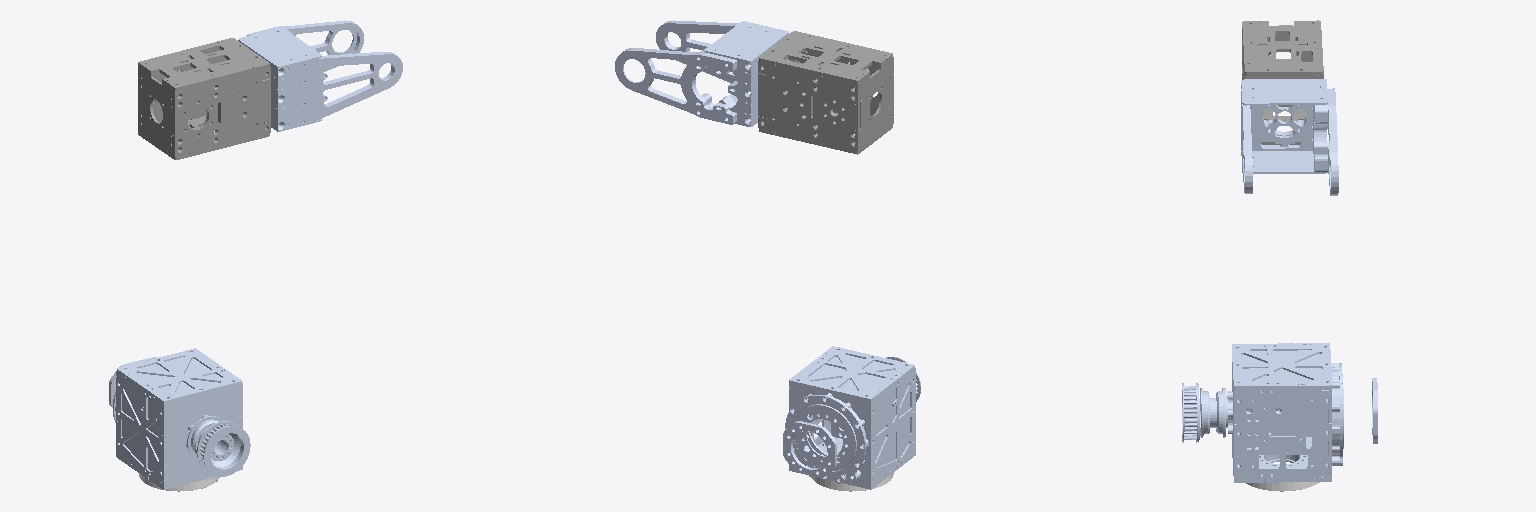
robot.urdf — combine_urdf:
<?xml version="1.0" encoding="utf-8"?>
<!-- This URDF was automatically created by SolidWorks to URDF Exporter! Originally created by Stephen Brawner (brawner@gmail.com) 
     Commit Version: 1.6.0-4-g7f85cfe  Build Version: 1.6.7995.38578
     For more information, please see http://wiki.ros.org/sw_urdf_exporter -->
<robot
  name="combine_urdf">
  <link
    name="chassis_link">
    <inertial>
      <origin
        xyz="0 0 0"
        rpy="0 0 0" />
      <mass
        value="4.54836449313373" />
      <inertia
        ixx="0.0446653467484273"
        ixy="2.96718648712419E-08"
        ixz="-4.29726772824118E-08"
        iyy="0.0453264512407643"
        iyz="-0.00839917138894693"
        izz="0.0183063896331625" />
    </inertial>
    <visual>
      <origin
        xyz="0 0 0"
        rpy="0 0 0" />
      <geometry>
        <mesh
          filename="package://combine_urdf/meshes/chassis_link.STL" />
      </geometry>
      <material
        name="">
        <color
          rgba="0.792156862745098 0.819607843137255 0.933333333333333 1" />
      </material>
    </visual>
    <collision>
      <origin
        xyz="0 0 0"
        rpy="0 0 0" />
      <geometry>
        <mesh
          filename="package://combine_urdf/meshes/chassis_link.STL" />
      </geometry>
    </collision>
  </link>
  <link
    name="base_link">
    <inertial>
      <origin
        xyz="0 8.37004077158809E-16 0.00552499518957415"
        rpy="0 0 0" />
      <mass
        value="0.070339976142218" />
      <inertia
        ixx="5.67971276827401E-05"
        ixy="-6.45862622281404E-21"
        ixz="-1.89587632031052E-18"
        iyy="5.679712768274E-05"
        iyz="-2.13407420996369E-21"
        izz="0.000112250879027644" />
    </inertial>
    <visual>
      <origin
        xyz="0 0 0"
        rpy="0 0 0" />
      <geometry>
        <mesh
          filename="package://combine_urdf/meshes/base_link.STL" />
      </geometry>
      <material
        name="">
        <color
          rgba="1 1 1 1" />
      </material>
    </visual>
    <collision>
      <origin
        xyz="0 0 0"
        rpy="0 0 0" />
      <geometry>
        <mesh
          filename="package://combine_urdf/meshes/base_link.STL" />
      </geometry>
    </collision>
  </link>
  <joint
    name="base_joint"
    type="fixed">
    <origin
      xyz="0.23371 0 0.088788"
      rpy="0 0 0.023499" />
    <parent
      link="chassis_link" />
    <child
      link="base_link" />
    <axis
      xyz="0 0 0" />
  </joint>
  <link
    name="link1">
    <inertial>
      <origin
        xyz="0.000515726414962558 -0.00604665623816345 0.0470312396575921"
        rpy="0 0 0" />
      <mass
        value="0.636511489344551" />
      <inertia
        ixx="0.000595423185958494"
        ixy="-2.6025736617933E-09"
        ixz="-3.70518662368028E-09"
        iyy="0.000813672126898766"
        iyz="3.88406555494452E-07"
        izz="0.000619622384671693" />
    </inertial>
    <visual>
      <origin
        xyz="0 0 0"
        rpy="0 0 0" />
      <geometry>
        <mesh
          filename="package://combine_urdf/meshes/link1.STL" />
      </geometry>
      <material
        name="">
        <color
          rgba="0.866666666666667 0.909803921568627 1 1" />
      </material>
    </visual>
    <collision>
      <origin
        xyz="0 0 0"
        rpy="0 0 0" />
      <geometry>
        <mesh
          filename="package://combine_urdf/meshes/link1.STL" />
      </geometry>
    </collision>
  </link>
  <joint
    name="joint1"
    type="revolute">
    <origin
      xyz="0 0 0.0108"
      rpy="0 0 0" />
    <parent
      link="base_link" />
    <child
      link="link1" />
    <axis
      xyz="0 0 1" />
    <limit
      lower="-2.3562"
      upper="2.3562"
      effort="0"
      velocity="0" />
  </joint>
  <link
    name="link2">
    <inertial>
      <origin
        xyz="-0.000227182165752043 0.283788577424787 0.0334192323712566"
        rpy="0 0 0" />
      <mass
        value="0.815956542656025" />
      <inertia
        ixx="0.00471320640659224"
        ixy="3.90500241207293E-06"
        ixz="1.3669662236984E-06"
        iyy="0.000430817623852867"
        iyz="-2.50388394023262E-06"
        izz="0.00495814327744869" />
    </inertial>
    <visual>
      <origin
        xyz="0 0 0"
        rpy="0 0 0" />
      <geometry>
        <mesh
          filename="package://combine_urdf/meshes/link2.STL" />
      </geometry>
      <material
        name="">
        <color
          rgba="0.866666666666667 0.909803921568627 1 0.25" />
      </material>
    </visual>
    <collision>
      <origin
        xyz="0 0 0"
        rpy="0 0 0" />
      <geometry>
        <mesh
          filename="package://combine_urdf/meshes/link2.STL" />
      </geometry>
    </collision>
  </link>
  <joint
    name="joint2"
    type="revolute">
    <origin
      xyz="0 0.062 0.0572"
      rpy="1.5708 -1.5708 0" />
    <parent
      link="link1" />
    <child
      link="link2" />
    <axis
      xyz="0 0 -1" />
    <limit
      lower="0.29671"
      upper="2.8448"
      effort="0"
      velocity="0" />
  </joint>
  <link
    name="link3">
    <inertial>
      <origin
        xyz="0.041072208918987 0.000683855899016789 0.0584702110720905"
        rpy="0 0 0" />
      <mass
        value="0.390686340082688" />
      <inertia
        ixx="0.000334670055240057"
        ixy="-8.72428937778991E-15"
        ixz="-1.25040831287662E-06"
        iyy="0.000460457023438686"
        iyz="2.7839497945977E-14"
        izz="0.000509762182645159" />
    </inertial>
    <visual>
      <origin
        xyz="0 0 0"
        rpy="0 0 0" />
      <geometry>
        <mesh
          filename="package://combine_urdf/meshes/link3.STL" />
      </geometry>
      <material
        name="">
        <color
          rgba="0.698039215686274 0.698039215686274 0.698039215686274 1" />
      </material>
    </visual>
    <collision>
      <origin
        xyz="0 0 0"
        rpy="0 0 0" />
      <geometry>
        <mesh
          filename="package://combine_urdf/meshes/link3.STL" />
      </geometry>
    </collision>
  </link>
  <joint
    name="joint3"
    type="revolute">
    <origin
      xyz="0 0.38 0.003"
      rpy="0 0 0" />
    <parent
      link="link2" />
    <child
      link="link3" />
    <axis
      xyz="0 0 -1" />
    <limit
      lower="-1.274"
      upper="1.047"
      effort="0"
      velocity="0" />
  </joint>
  <link
    name="link4">
    <inertial>
      <origin
        xyz="5.81625625190041E-07 0.00678390336386623 0.0307929795957714"
        rpy="0 0 0" />
      <mass
        value="0.377654693949485" />
      <inertia
        ixx="0.00029983339686046"
        ixy="4.18981203472347E-09"
        ixz="-4.69080293984753E-09"
        iyy="0.000380898133567748"
        iyz="2.97560118163645E-09"
        izz="0.000273600879494815" />
    </inertial>
    <visual>
      <origin
        xyz="0 0 0"
        rpy="0 0 0" />
      <geometry>
        <mesh
          filename="package://combine_urdf/meshes/link4.STL" />
      </geometry>
      <material
        name="">
        <color
          rgba="0.866666666666667 0.909803921568627 1 1" />
      </material>
    </visual>
    <collision>
      <origin
        xyz="0 0 0"
        rpy="0 0 0" />
      <geometry>
        <mesh
          filename="package://combine_urdf/meshes/link4.STL" />
      </geometry>
    </collision>
  </link>
  <joint
    name="joint4"
    type="revolute">
    <origin
      xyz="0.095 0 0.05875"
      rpy="-1.5708 0 -1.5708" />
    <parent
      link="link3" />
    <child
      link="link4" />
    <axis
      xyz="0 0 -1" />
    <limit
      lower="-3.1416"
      upper="3.1416"
      effort="0"
      velocity="0" />
  </joint>
  <link
    name="link5">
    <inertial>
      <origin
        xyz="-0.00550366176928146 -3.41361432573128E-05 0.0433008651509367"
        rpy="0 0 0" />
      <mass
        value="0.27715659983543" />
      <inertia
        ixx="0.000107962268234192"
        ixy="2.61588631703579E-07"
        ixz="-7.15020788713686E-08"
        iyy="7.56854053993817E-05"
        iyz="-1.31747543958523E-07"
        izz="7.41566570107904E-05" />
    </inertial>
    <visual>
      <origin
        xyz="0 0 0"
        rpy="0 0 0" />
      <geometry>
        <mesh
          filename="package://combine_urdf/meshes/link5.STL" />
      </geometry>
      <material
        name="">
        <color
          rgba="1 1 1 1" />
      </material>
    </visual>
    <collision>
      <origin
        xyz="0 0 0"
        rpy="0 0 0" />
      <geometry>
        <mesh
          filename="package://combine_urdf/meshes/link5.STL" />
      </geometry>
    </collision>
  </link>
  <joint
    name="joint5"
    type="revolute">
    <origin
      xyz="0 0.051 0.1455"
      rpy="1.5708 -1.5708 0" />
    <parent
      link="link4" />
    <child
      link="link5" />
    <axis
      xyz="0 0 -1" />
    <limit
      lower="-1.74533"
      upper="1.74533"
      effort="0"
      velocity="0" />
  </joint>
  <link
    name="link6">
    <inertial>
      <origin
        xyz="-0.00367525293971371 -1.27631003548883E-05 0.0722077213593352"
        rpy="0 0 0" />
      <mass
        value="0.760779533170234" />
      <inertia
        ixx="0.000809731677734006"
        ixy="-1.72603912684796E-06"
        ixz="0.00010270218256557"
        iyy="0.000434651103686387"
        iyz="1.61982642537567E-08"
        izz="0.000724605087319129" />
    </inertial>
    <visual>
      <origin
        xyz="0 0 0"
        rpy="0 0 0" />
      <geometry>
        <mesh
          filename="package://combine_urdf/meshes/link6.STL" />
      </geometry>
      <material
        name="">
        <color
          rgba="0.792156862745098 0.819607843137255 0.933333333333333 1" />
      </material>
    </visual>
    <collision>
      <origin
        xyz="0 0 0"
        rpy="0 0 0" />
      <geometry>
        <mesh
          filename="package://combine_urdf/meshes/link6.STL" />
      </geometry>
    </collision>
  </link>
  <joint
    name="joint6"
    type="revolute">
    <origin
      xyz="0.044798 0.00037066 0.051"
      rpy="-1.5708 0 -1.5708" />
    <parent
      link="link5" />
    <child
      link="link6" />
    <axis
      xyz="-0.0082736 0 0.99997" />
    <limit
      lower="-3.1416"
      upper="3.1416"
      effort="0"
      velocity="0" />
  </joint>
  <link
    name="gripper" />
  <joint
    name="gripper_joint"
    type="fixed">
    <origin
      xyz="-0.019511 -0.00016032 0.16996"
      rpy="0 -0.79367 0.00072185" />
    <parent
      link="link6" />
    <child
      link="gripper" />
  </joint>
</robot>

--- Facts derived from the render (not from the file) ---
The picture shows the robot from 3 angles, left to right: view 1: azimuth 30°, elevation 25°; view 2: azimuth 150°, elevation 25°; view 3: azimuth 270°, elevation 25°; orthographic projection.
Model combine_urdf with 9 links and 8 joints (6 revolute, 2 fixed), rooted at chassis_link, posed joints at zero except 1 at the middle of their limits (joint2 = 1.57).
Visible links, largest first — view 1: link1, link3, link4; view 2: link1, link3, link4; view 3: link1, link4, link3.
Link boxes in pixels (left/top/right/bottom): link1: left=109, top=348, right=250, bottom=489; link3: left=138, top=38, right=270, bottom=159; link4: left=237, top=20, right=402, bottom=131; link1: left=783, top=346, right=920, bottom=489; link3: left=758, top=31, right=893, bottom=154; link4: left=615, top=20, right=789, bottom=126; link1: left=1182, top=343, right=1377, bottom=482; link4: left=1241, top=79, right=1338, bottom=195; link3: left=1242, top=20, right=1323, bottom=144.
Bounding box of the posed robot: 0.3156 × 0.1995 × 0.492 m (x, y, z).
Meshes: 8 distinct files referenced, 4 mesh visuals loaded (4 binary STL); not drawn: 4 (reference not matched to a file when rendering).
